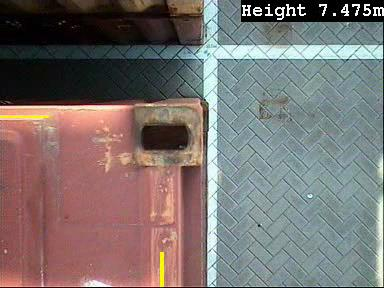groundmarker_2: (21, 127, 117, 268)
